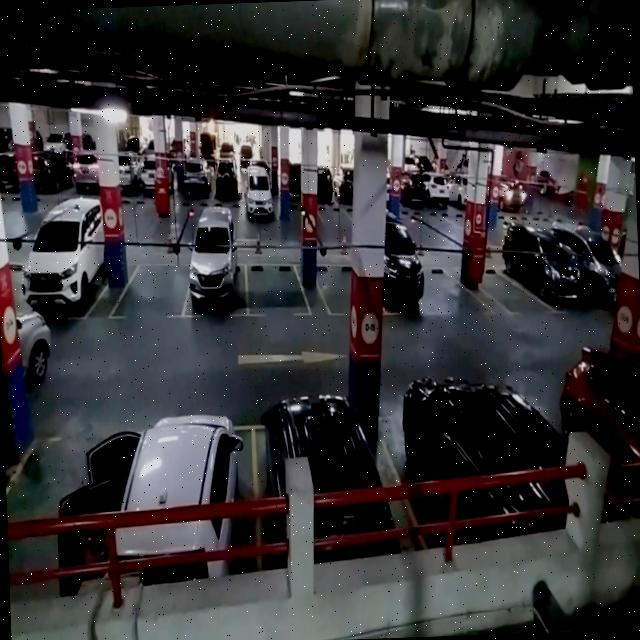empty: (116, 258, 187, 320), (244, 258, 308, 318), (316, 260, 357, 318)
occupied: (251, 404, 404, 575), (115, 416, 260, 576), (18, 220, 105, 322), (184, 232, 248, 320)
